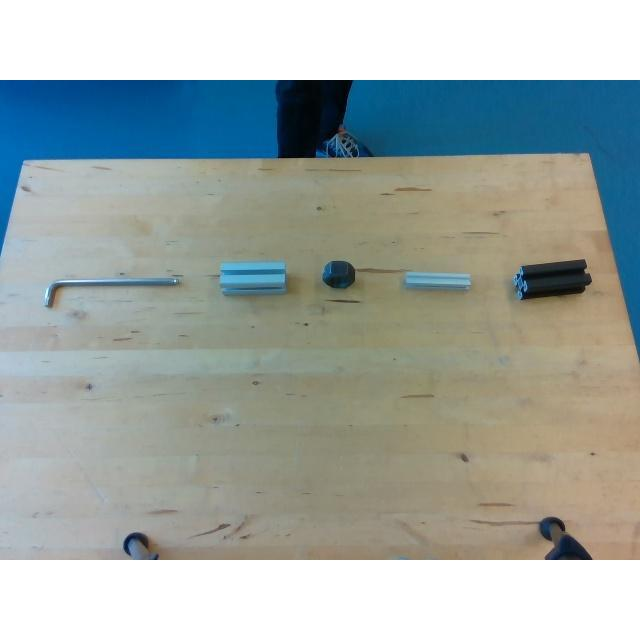AllenKey: (44, 274, 180, 306)
F20_20_G: (404, 271, 470, 289)
M30: (322, 260, 356, 288)
S40_40_B: (514, 258, 590, 298)
S40_40_G: (219, 262, 285, 294)
